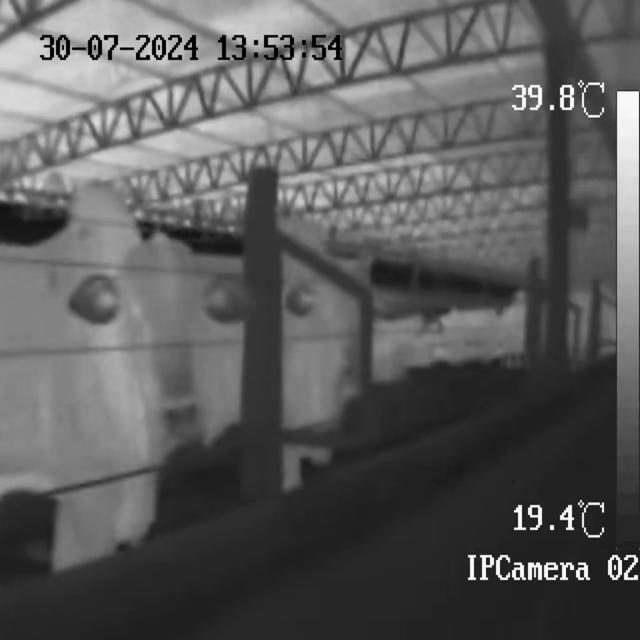eye: (124, 285, 149, 333)
head: (113, 229, 210, 449)
